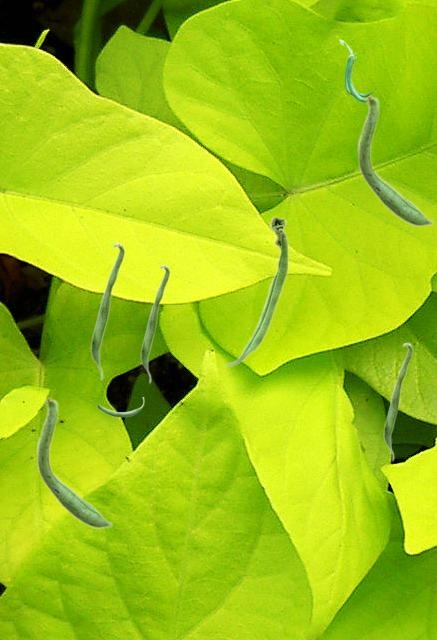french_bean: (36, 396, 112, 528), (357, 94, 433, 226), (224, 215, 288, 366), (90, 242, 124, 380), (140, 264, 169, 383), (383, 342, 412, 461), (339, 39, 376, 101), (97, 397, 143, 416)
